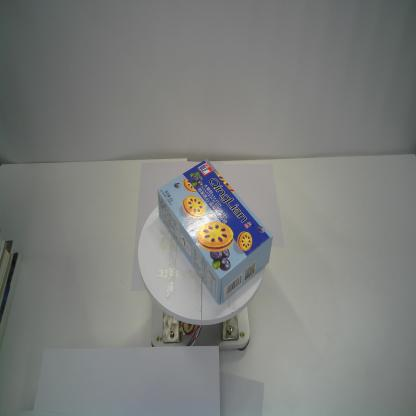Dessert: (157, 158, 274, 306)
